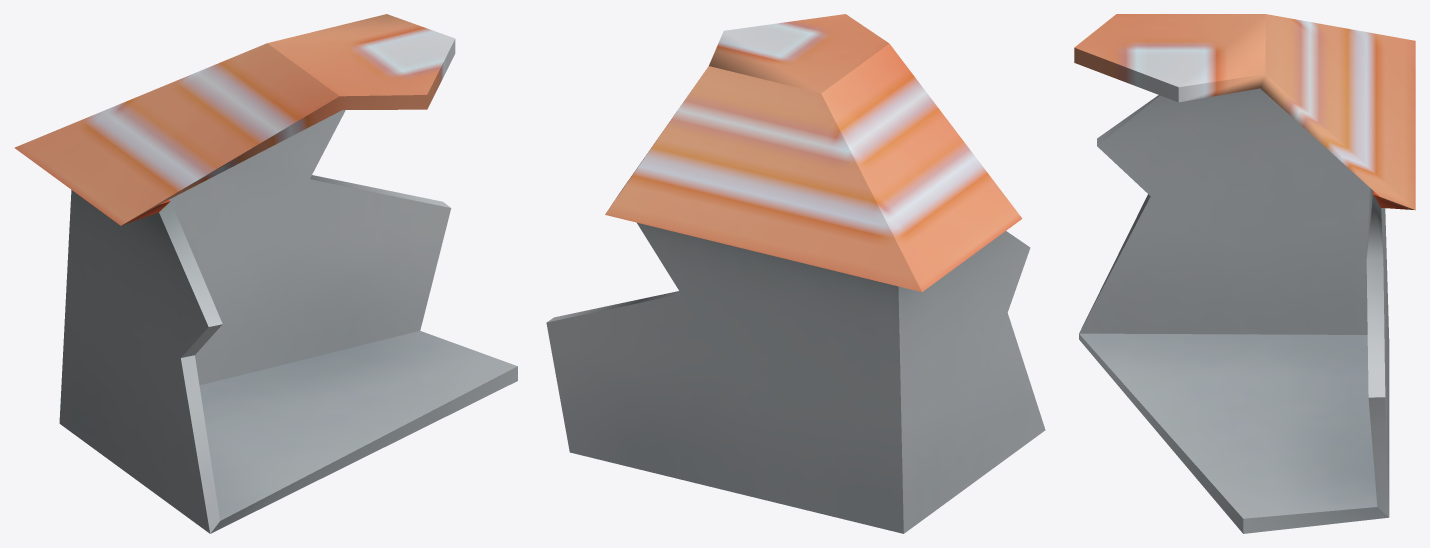
Rendered from B3Broke02.FBX.
3 renders of one model, left to right at view 1: azimuth 30°, elevation 25°; view 2: azimuth 150°, elevation 25°; view 3: azimuth 270°, elevation 25°, orthographic. The views are drawn at different scales.
Parts seen in each view (by area): view 1: B3Broke02; view 2: B3Broke02; view 3: B3Broke02.
Part boxes in pixels (x1,y1,x2,y2): B3Broke02: [14, 14, 517, 533]; B3Broke02: [546, 14, 1045, 533]; B3Broke02: [1074, 14, 1415, 533].
Bounding box in the file's own units: 41.16 × 36.38 × 28.17.
